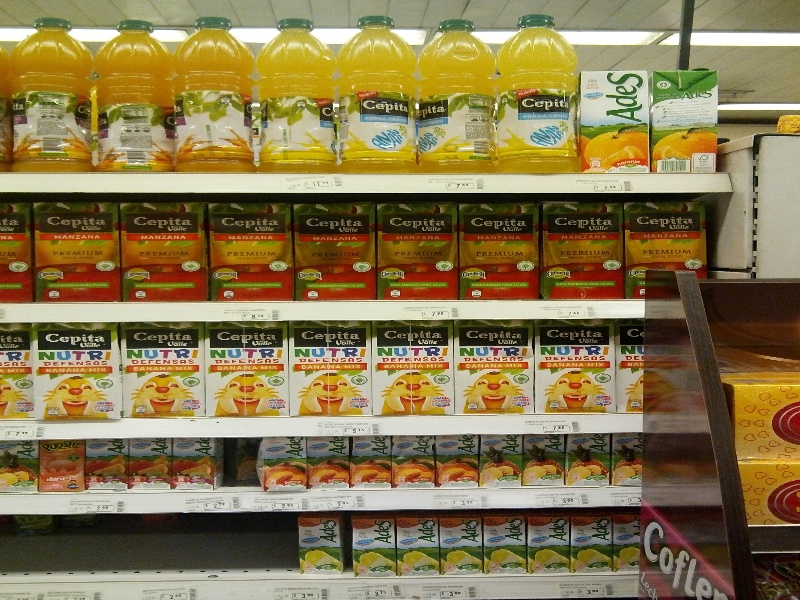juice: (33, 197, 124, 302), (119, 199, 212, 300), (206, 201, 298, 303), (375, 200, 465, 301), (575, 68, 660, 174), (372, 316, 458, 416), (460, 200, 544, 302), (287, 321, 375, 417), (648, 67, 719, 174), (540, 327, 617, 412)
